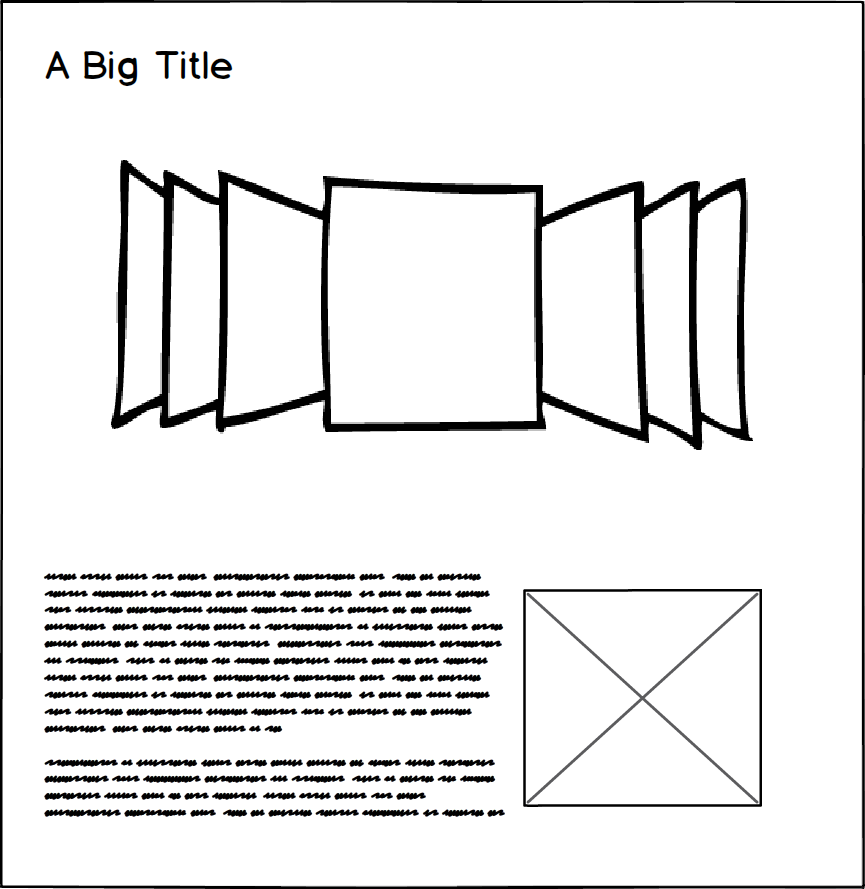h1: (38, 42, 241, 89)
image: (520, 588, 770, 812)
p: (26, 563, 514, 836)
slideshow: (99, 151, 766, 459)
